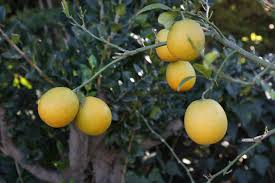orange: (183, 99, 228, 145), (39, 85, 78, 127), (76, 93, 114, 135), (170, 17, 207, 58), (166, 60, 200, 92), (155, 28, 181, 61)
